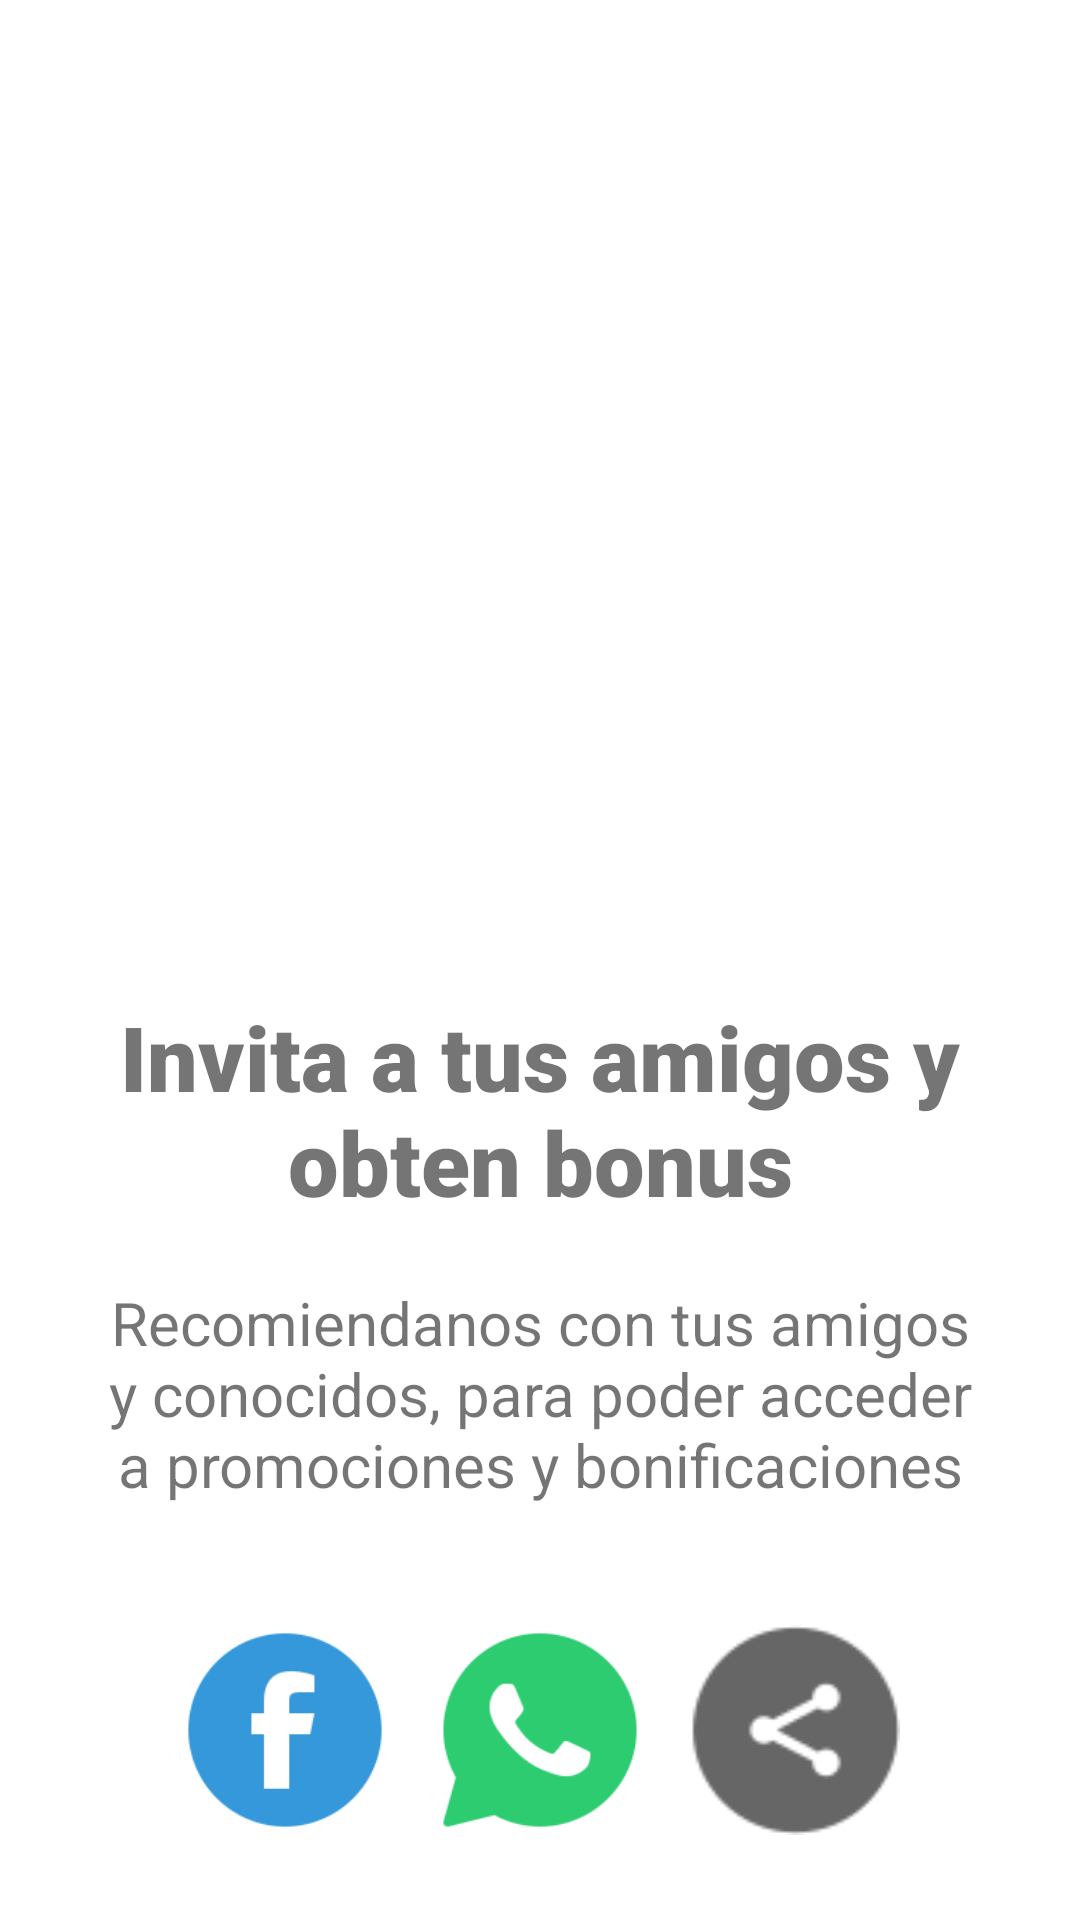

Where to tap for icons on this 1080px x 1920px app screen, as point (x, y):
share: point (796, 1731)
